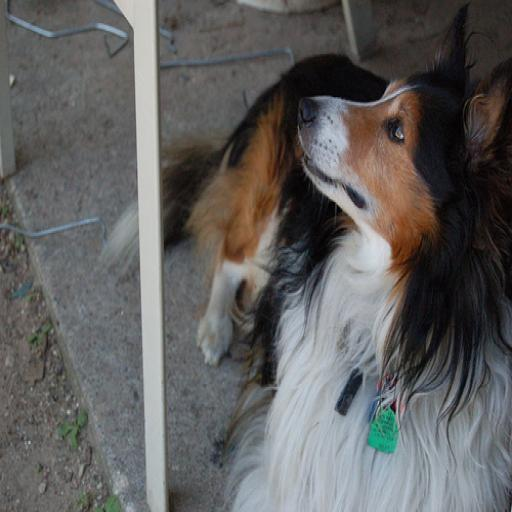dog_face: (300, 17, 506, 288)
